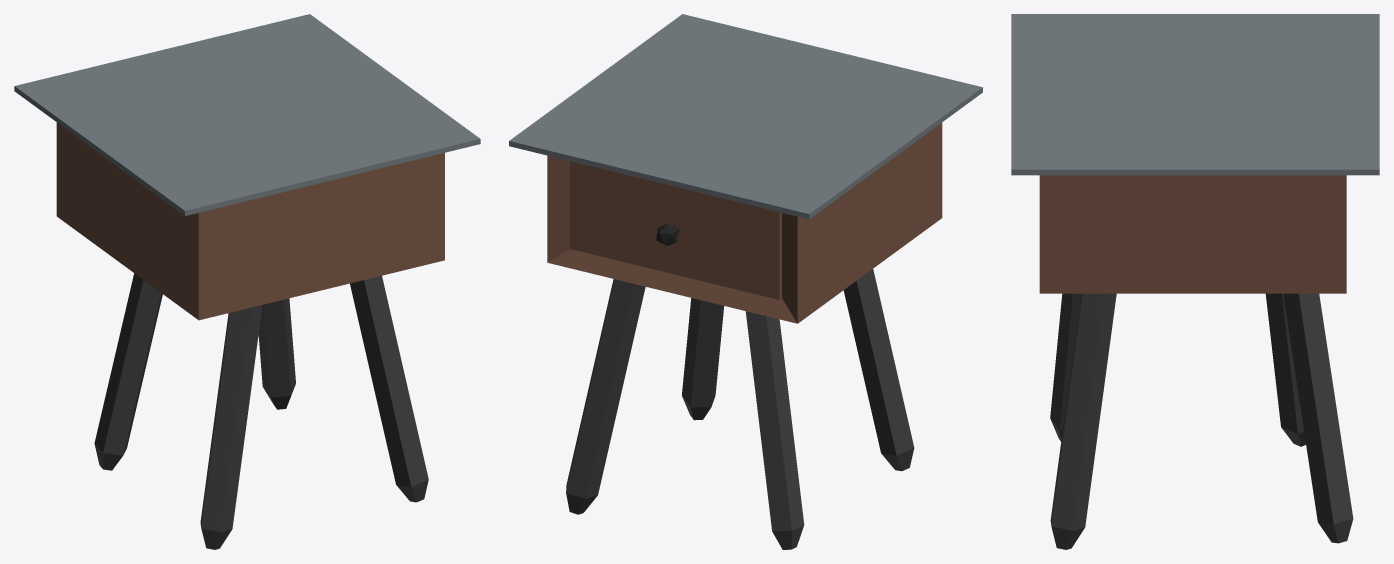
File: Komodin.fbx
3 views of the same model, side by side, from view 1: azimuth 30°, elevation 25°; view 2: azimuth 150°, elevation 25°; view 3: azimuth 270°, elevation 25° (orthographic). The views are drawn at different scales.
Parts seen in each view (by area): view 1: Cube.019, Cube.018, Cone.003, Cone.004, Cone.002, Cone.001; view 2: Cube.019, Cube.018, Cone.001, Cone.002, Cone.003, Cone.004; view 3: Cube.019, Cube.018, Cone.004, Cone.001, Cone.002, Cone.003.
Part boxes in pixels (x1,y1,x2,y2): Cube.019: (14, 14, 480, 215); Cube.018: (56, 122, 444, 320); Cone.003: (200, 305, 262, 549); Cone.004: (350, 276, 428, 502); Cone.002: (94, 273, 162, 470); Cone.001: (258, 298, 295, 409); Cube.019: (509, 14, 982, 219); Cube.018: (547, 122, 942, 323); Cone.001: (566, 279, 645, 514); Cone.002: (745, 311, 804, 549); Cone.003: (843, 269, 914, 471); Cone.004: (682, 298, 724, 420); Cube.019: (1011, 14, 1379, 175); Cube.018: (1039, 175, 1346, 293); Cone.004: (1050, 293, 1116, 549); Cone.001: (1283, 293, 1353, 543); Cone.002: (1265, 293, 1305, 446); Cone.003: (1050, 293, 1080, 441).
Bounding box in the file's own units: 849 × 1016 × 849.
